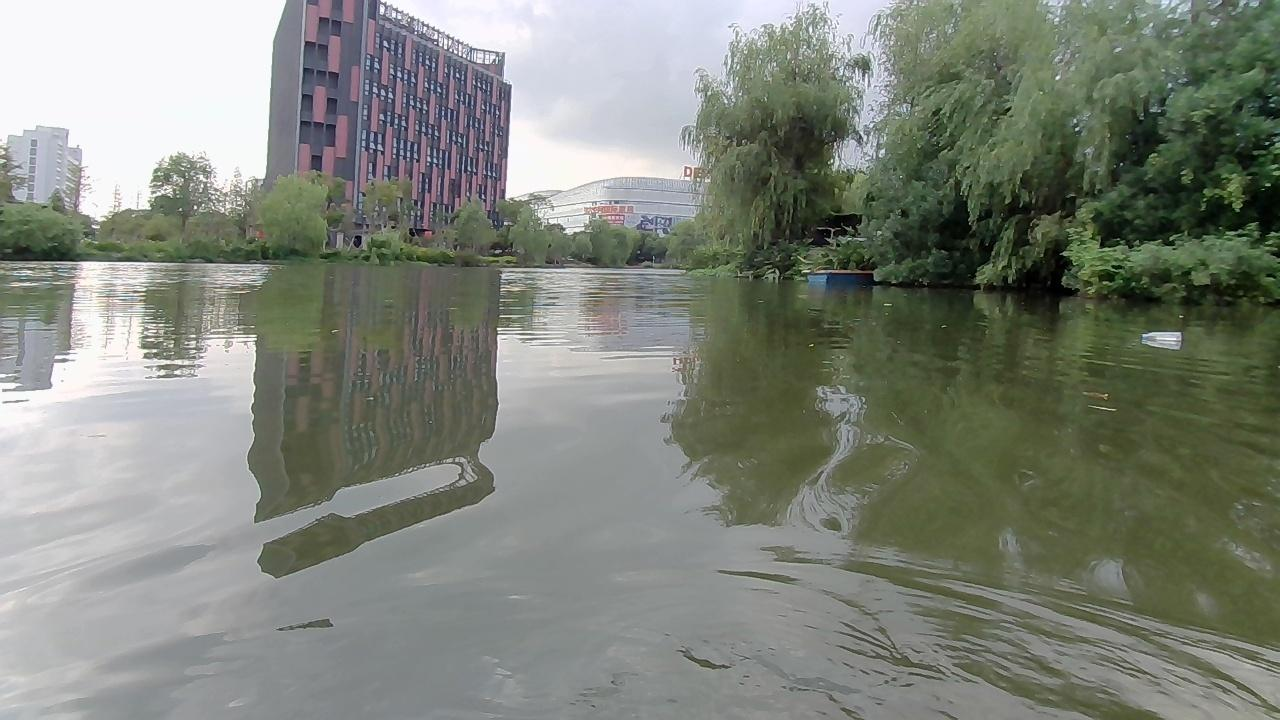bottle: (1137, 328, 1187, 348)
